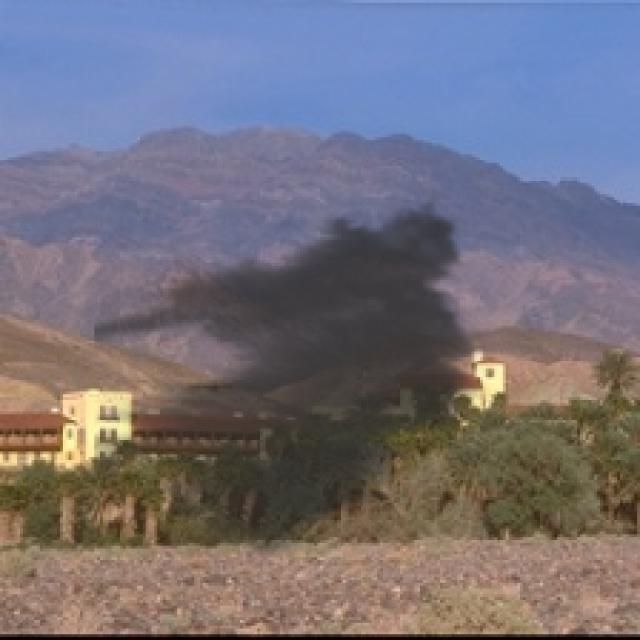smoke: (94, 188, 497, 568)
